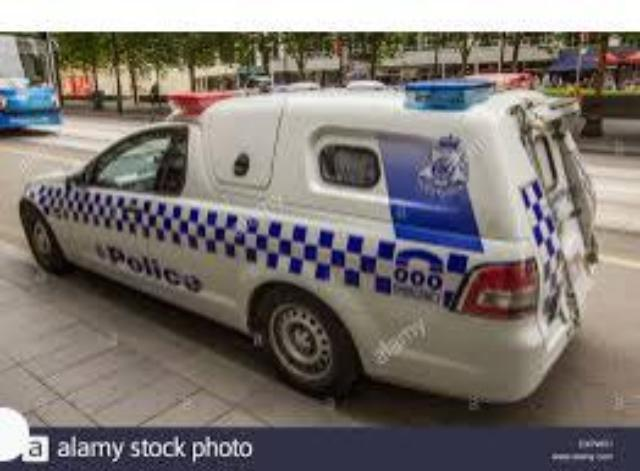police: (17, 76, 603, 405)
